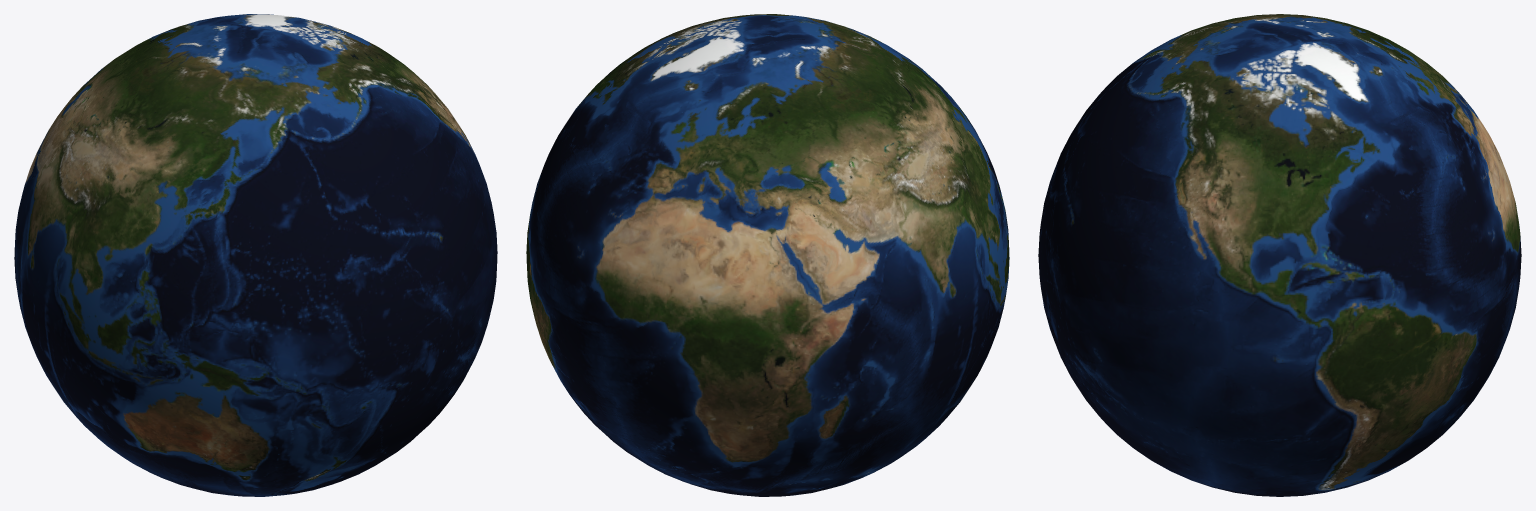
Rendered from EarthModel.obj.
The picture shows the model from 3 angles, left to right: view 1: azimuth 30°, elevation 25°; view 2: azimuth 150°, elevation 25°; view 3: azimuth 270°, elevation 25°; orthographic projection.
Parts seen in each view (by area): view 1: obj1; view 2: obj1; view 3: obj1.
Part boxes in pixels (x1,y1,x2,y2): obj1: [14, 14, 497, 496]; obj1: [526, 14, 1009, 496]; obj1: [1038, 14, 1521, 496].
Size of the model in its own units: 1 by 1 by 1.
Materials: 1 (1 with a texture image).
